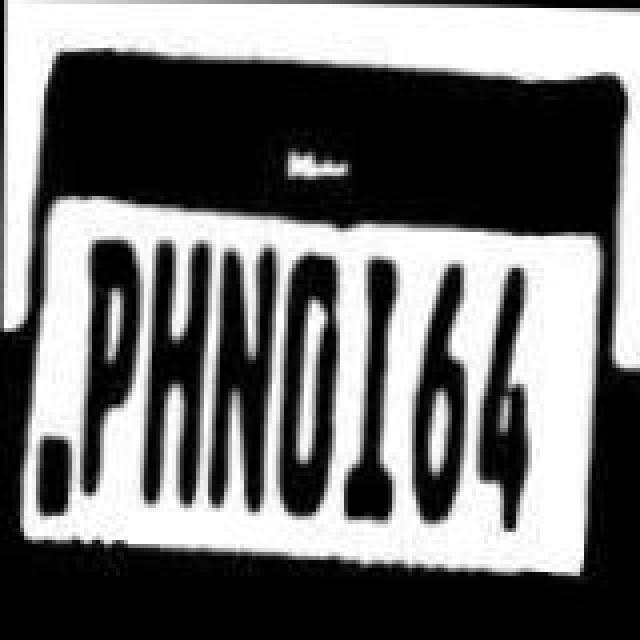4: (474, 260, 534, 536)
6: (406, 246, 466, 530)
D: (270, 246, 338, 518)
H: (138, 230, 210, 522)
I: (336, 248, 400, 524)
N: (204, 242, 280, 510)
P: (78, 222, 142, 506)
